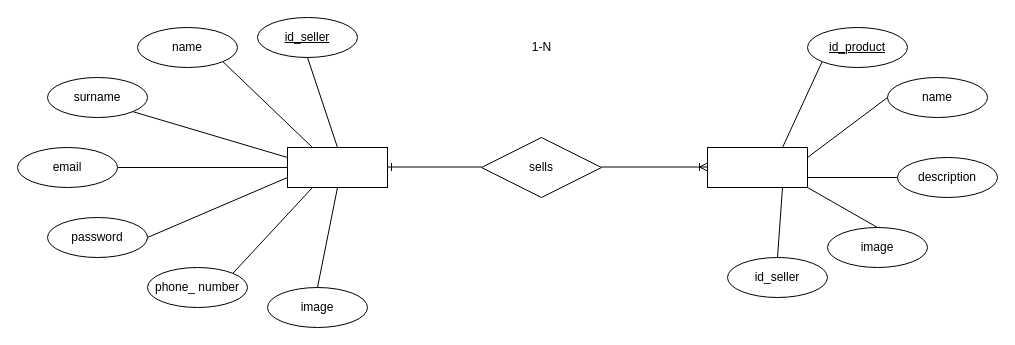
The diagram is 1015 pixels wide and 345 high, and some of its shapes have lost their labels. Here are the shapes that lost their labels. From the top down, the centre of each, then its label:
At (x=337, y=167): "seller".
At (x=757, y=167): "product".
